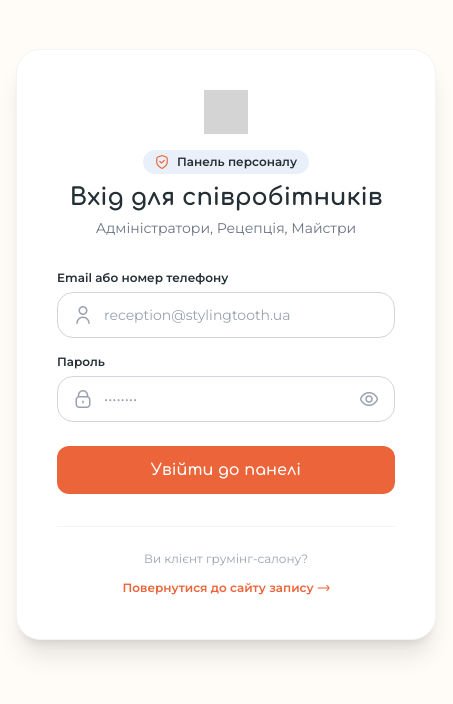
StaffLoginPage › validates empty password when identifier is provided
This screenshot has width=453, height=704.
Step 1. Type "staff@example.com" into the field labelled "Email або номер телефону" → (241, 314), box [104,304,378,324]
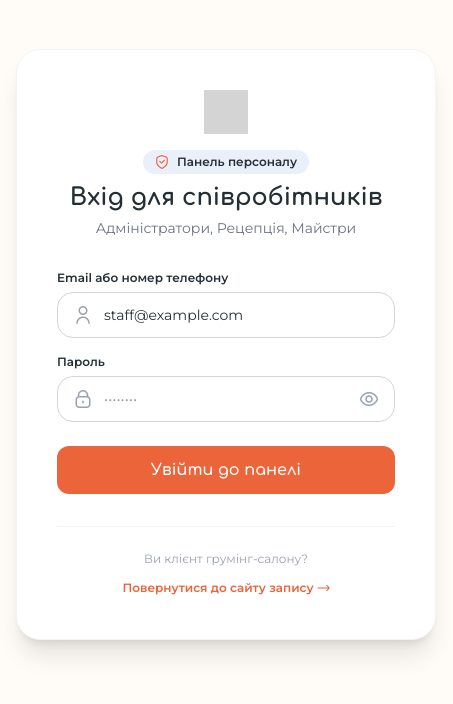
Step 2. Click the button "Увійти до панелі" → (226, 470), box [57,446,395,494]
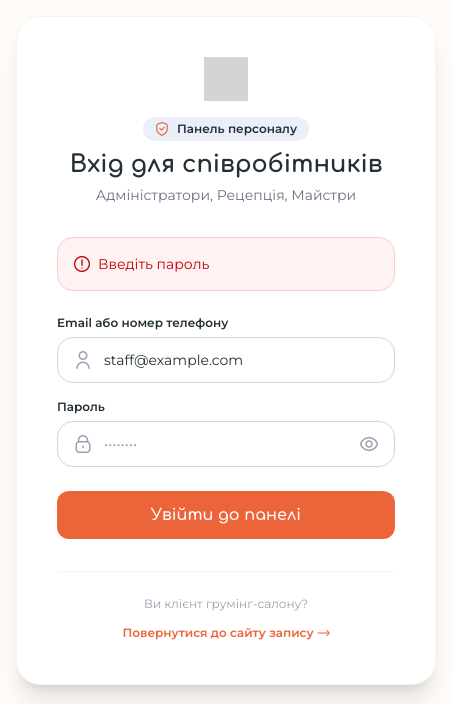
Check: the text "Введіть пароль" is shown, box [98,254,209,274]
